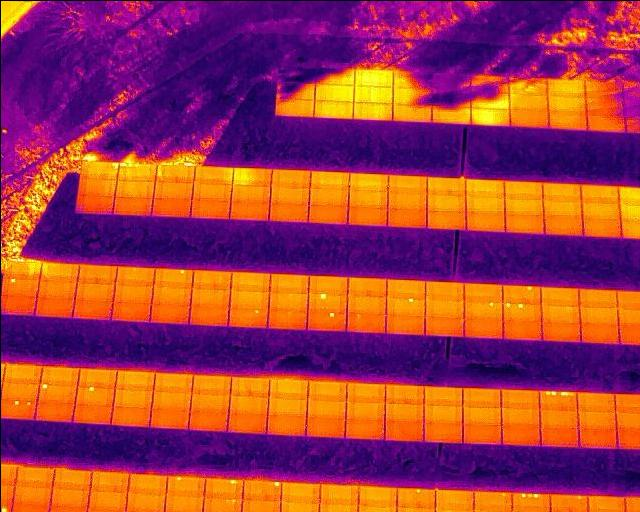Cell: (153, 267, 193, 288), (165, 475, 203, 497), (205, 478, 244, 499), (243, 481, 283, 501), (396, 487, 434, 508), (306, 310, 347, 329), (385, 296, 425, 315), (74, 386, 114, 405), (36, 382, 76, 401), (308, 293, 346, 312), (230, 307, 266, 327), (472, 491, 511, 509), (347, 313, 384, 331), (547, 494, 587, 510), (2, 278, 37, 296), (503, 284, 540, 301), (464, 301, 501, 317)
Cell-Multi: (500, 302, 541, 321), (537, 390, 576, 409), (1, 399, 37, 418), (512, 493, 551, 509), (119, 163, 155, 180)
No-Anomaly: (13, 467, 55, 489), (110, 405, 151, 427), (386, 173, 426, 195), (189, 374, 233, 394), (357, 486, 398, 507), (189, 392, 230, 413), (280, 482, 320, 503), (149, 408, 189, 429), (539, 426, 579, 447), (111, 370, 155, 389), (460, 423, 501, 443), (269, 377, 308, 398), (385, 315, 425, 335), (348, 172, 388, 192), (426, 176, 466, 196), (12, 488, 52, 508), (541, 199, 583, 218), (268, 308, 307, 328), (319, 485, 358, 505), (348, 206, 389, 225), (186, 411, 227, 430), (537, 410, 578, 429), (576, 391, 617, 410), (423, 387, 464, 406), (189, 200, 230, 219), (72, 299, 112, 318), (307, 205, 347, 224), (305, 418, 345, 437), (151, 391, 191, 410), (461, 388, 501, 407), (500, 389, 540, 408), (383, 385, 423, 404), (112, 388, 152, 407), (49, 490, 89, 509), (267, 397, 307, 416), (228, 395, 268, 414), (73, 195, 113, 214), (229, 376, 271, 394), (503, 321, 542, 340), (463, 318, 502, 337), (309, 275, 348, 294), (189, 305, 228, 324), (540, 286, 579, 305), (269, 273, 308, 292), (384, 421, 423, 440), (577, 409, 616, 428), (153, 373, 192, 392), (53, 470, 92, 489), (578, 306, 619, 324), (149, 304, 190, 322), (306, 381, 347, 399), (425, 194, 466, 212), (34, 297, 72, 316), (112, 302, 150, 321), (464, 282, 502, 301), (230, 272, 268, 291), (115, 265, 153, 284), (129, 474, 167, 493), (90, 472, 128, 491), (423, 423, 461, 442), (501, 426, 539, 445), (436, 489, 474, 508), (426, 316, 462, 336), (268, 291, 308, 309), (37, 281, 77, 299), (464, 213, 504, 231), (266, 415, 306, 433), (577, 429, 617, 447), (347, 384, 387, 402), (347, 277, 386, 295), (114, 284, 153, 302), (126, 494, 165, 512), (345, 420, 384, 438), (500, 408, 539, 426), (423, 404, 462, 422), (465, 179, 504, 197), (345, 401, 384, 419), (112, 196, 151, 214), (151, 198, 190, 216), (581, 201, 620, 219), (305, 399, 346, 416), (580, 324, 618, 342), (579, 289, 617, 307), (505, 216, 543, 234), (228, 414, 266, 432), (389, 208, 427, 226), (73, 404, 111, 422), (78, 179, 116, 197), (229, 202, 269, 219), (384, 404, 424, 421), (38, 366, 78, 383), (89, 491, 126, 509), (424, 298, 463, 315), (387, 279, 426, 296), (77, 283, 116, 300), (543, 218, 582, 235), (582, 220, 621, 237), (585, 495, 624, 512), (462, 407, 501, 424), (271, 169, 310, 186), (115, 180, 154, 197), (193, 184, 232, 201), (353, 102, 392, 119), (431, 107, 470, 124), (347, 190, 388, 206), (230, 290, 268, 307), (192, 271, 230, 288), (310, 170, 348, 187), (4, 364, 42, 381), (195, 167, 233, 184), (2, 382, 40, 399), (232, 185, 270, 202), (271, 186, 309, 203), (509, 109, 547, 126), (547, 112, 585, 129), (353, 70, 393, 86), (465, 197, 505, 213), (580, 184, 620, 200), (386, 193, 426, 209), (470, 109, 510, 125), (312, 101, 352, 117), (78, 264, 113, 282), (542, 325, 579, 342), (348, 295, 385, 312), (41, 265, 78, 282), (276, 99, 313, 116), (510, 93, 547, 110), (37, 401, 70, 420), (191, 289, 230, 305), (233, 170, 272, 186), (76, 369, 115, 385), (504, 199, 543, 215), (352, 87, 393, 102), (542, 306, 578, 323), (270, 203, 306, 220), (427, 212, 465, 228), (314, 84, 352, 100), (547, 95, 585, 111), (1, 297, 34, 315), (309, 188, 346, 204), (504, 182, 541, 198), (151, 288, 190, 303), (392, 105, 431, 120), (548, 78, 582, 95), (154, 182, 192, 197), (426, 282, 463, 297), (165, 497, 202, 512), (542, 185, 581, 199)
Shadowing: (314, 67, 354, 87), (392, 70, 430, 89), (276, 81, 314, 100), (469, 74, 509, 92), (392, 86, 432, 104), (585, 113, 624, 131), (508, 76, 547, 94), (429, 74, 470, 91), (469, 92, 509, 109), (432, 90, 471, 107), (586, 97, 623, 113), (583, 81, 620, 96)
Unclassified: (80, 161, 118, 180), (155, 164, 195, 182)
